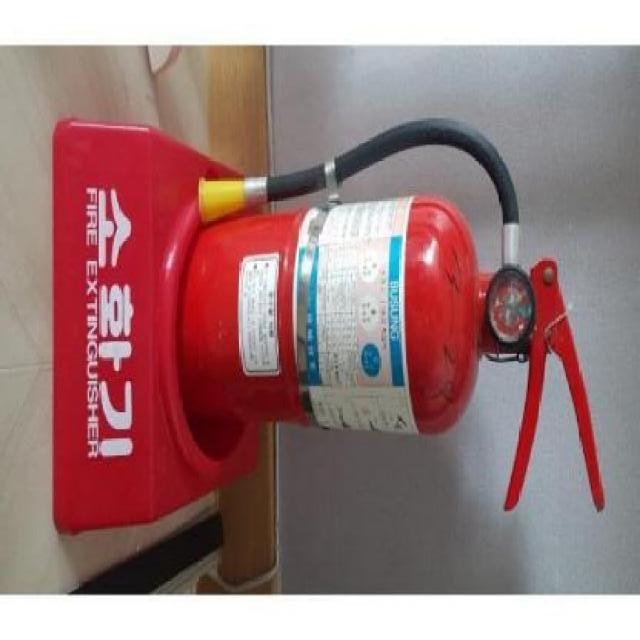fire extinguisher: (179, 116, 606, 516)
